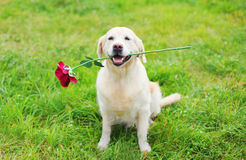dog: (96, 26, 181, 153)
